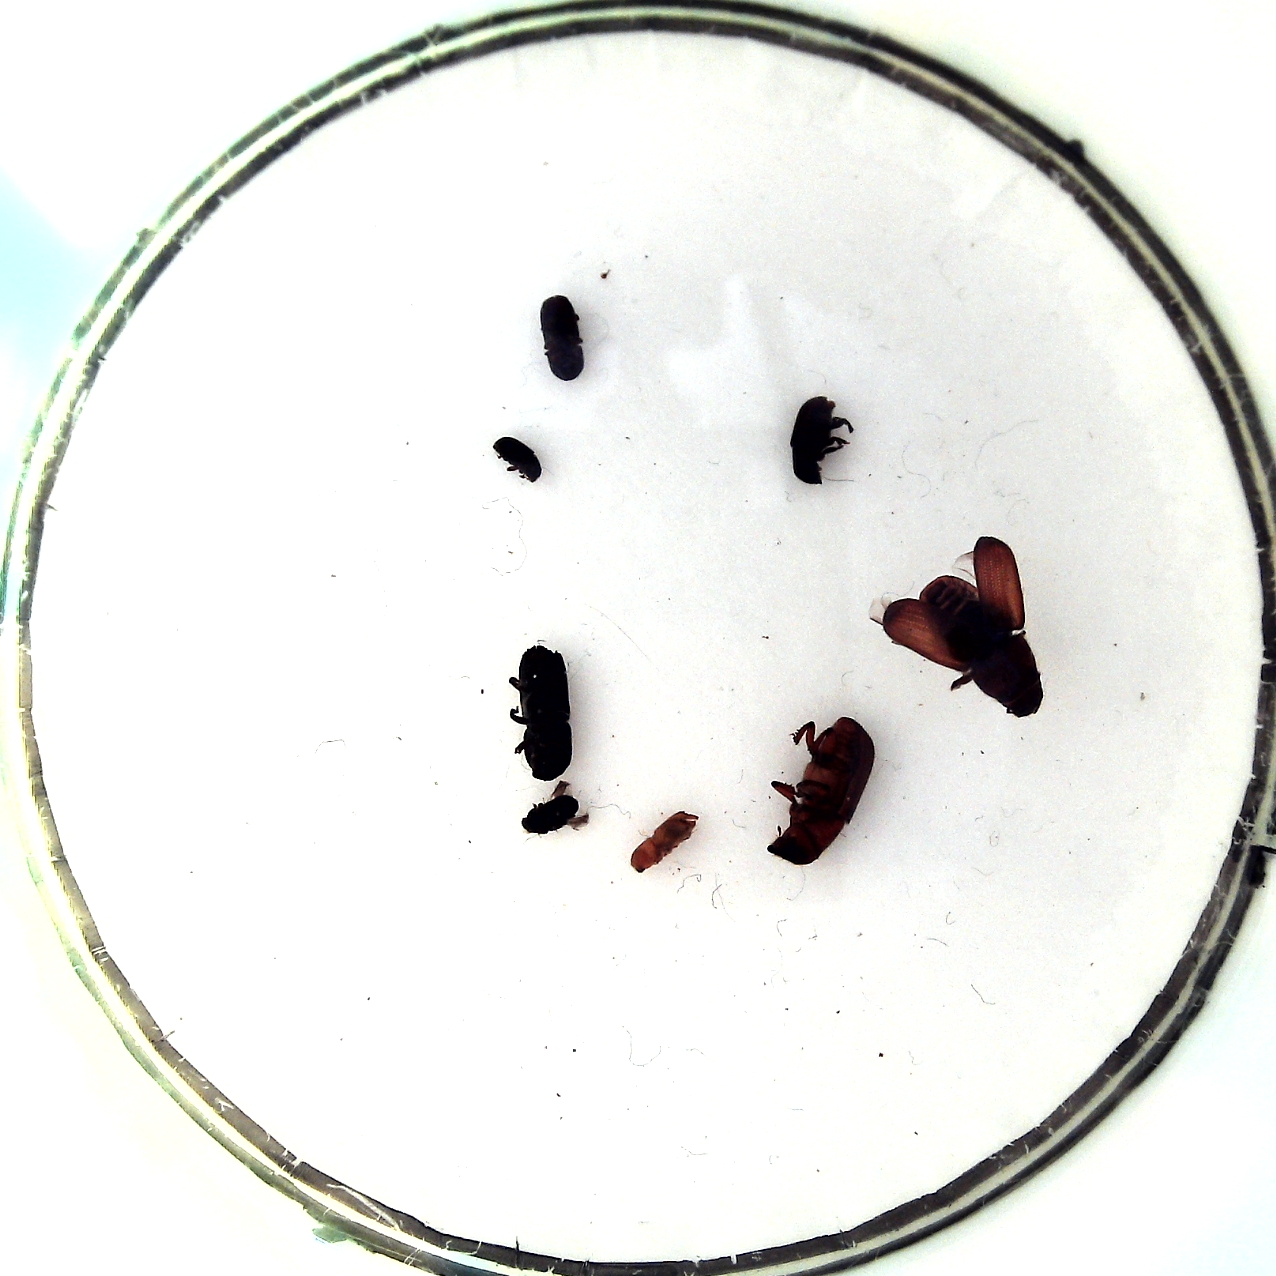Boerner: (518, 645, 573, 783)
Leconte: (920, 574, 1043, 717), (767, 716, 876, 865)
acuminatus: (521, 795, 580, 835)
armandi: (790, 397, 835, 485)
coleoptera: (630, 810, 699, 872), (493, 437, 542, 483)
linnaeus: (540, 294, 585, 381)
